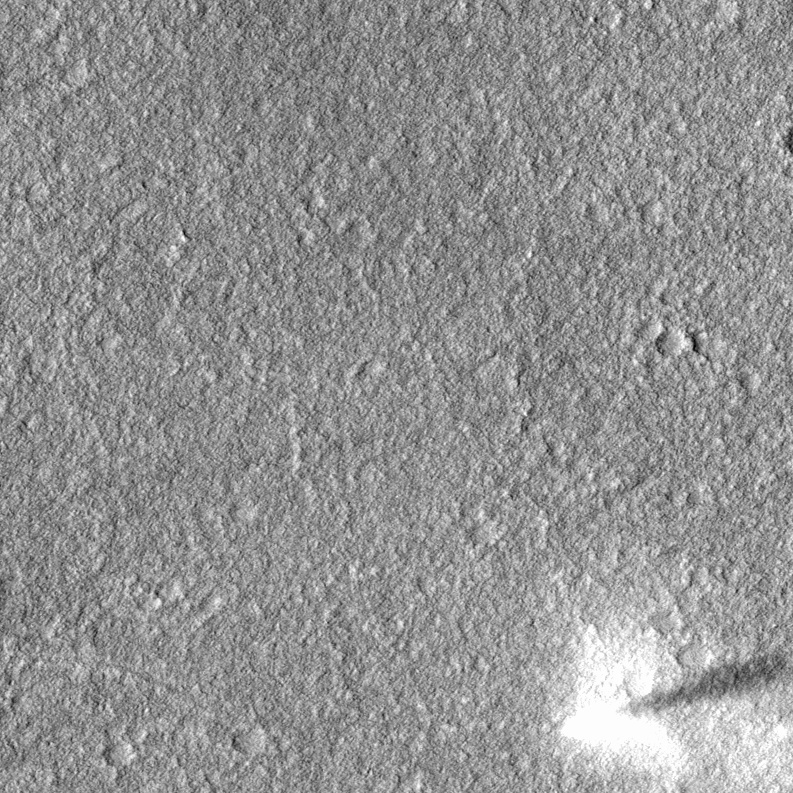dust_devil: (551, 617, 793, 781)
